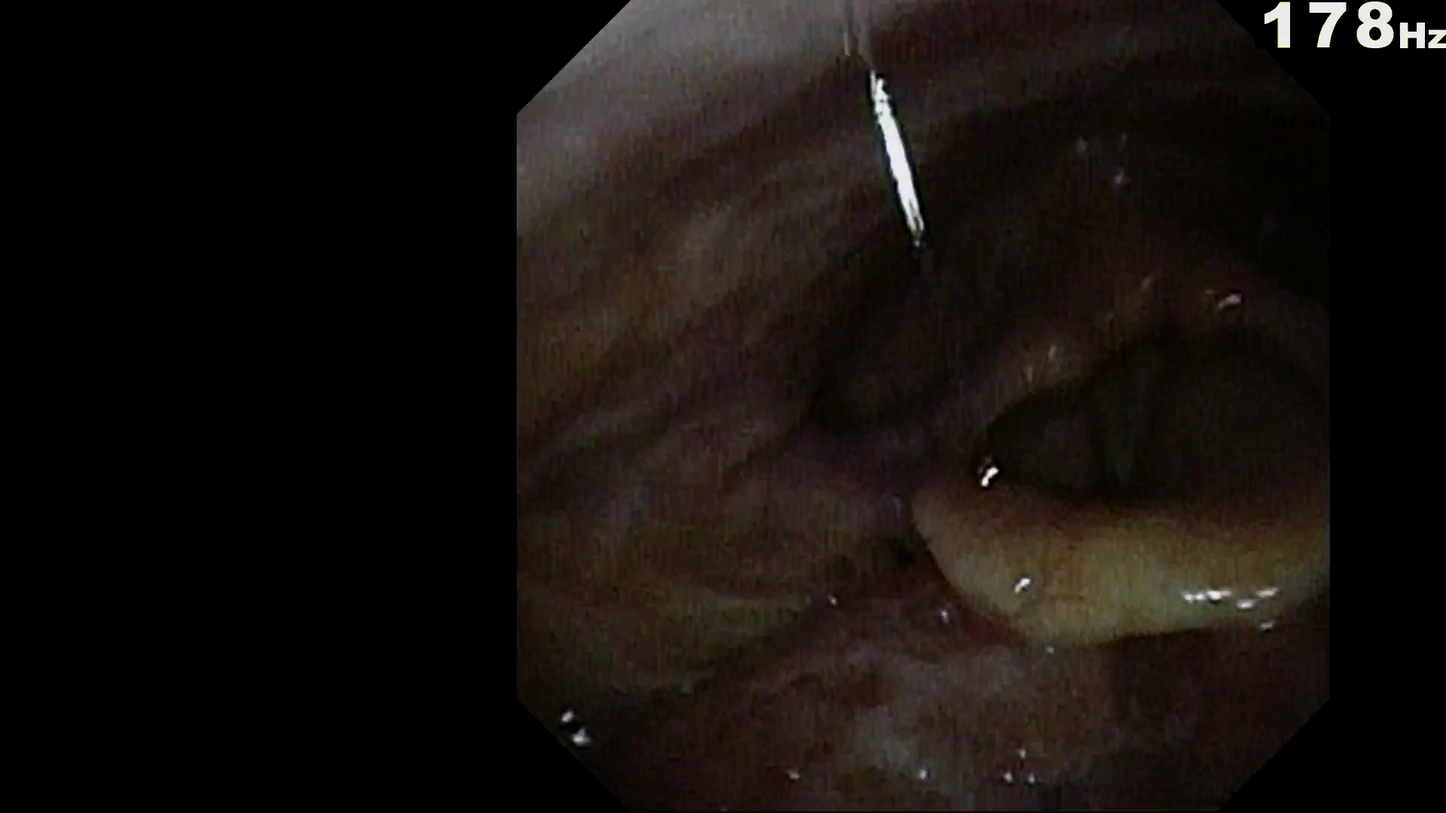epiglottis: (892, 470, 1314, 666)
trachea: (1058, 360, 1197, 510)
